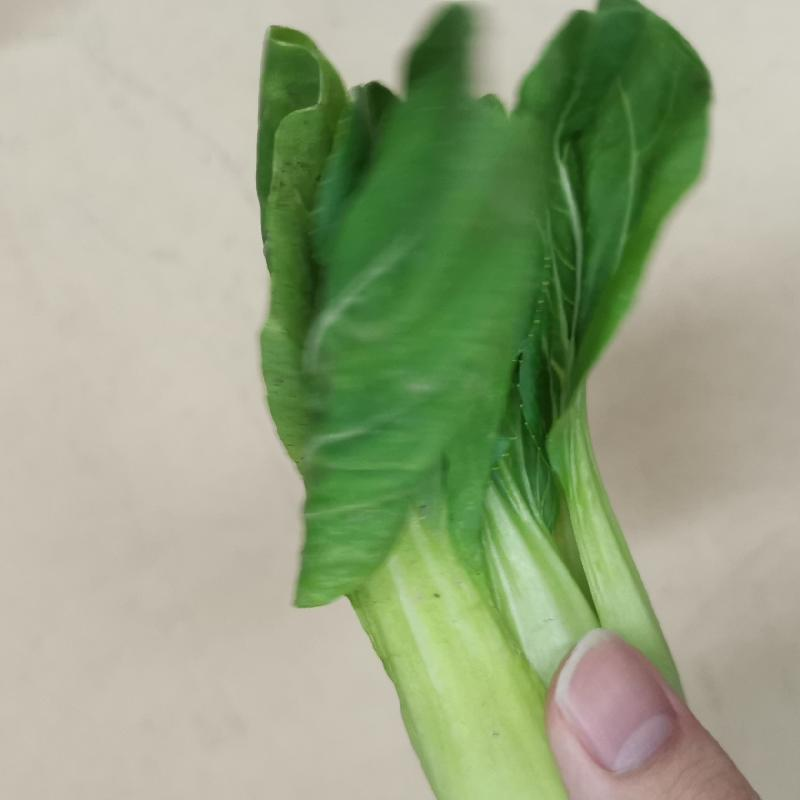green vegatable: (244, 14, 784, 800)
